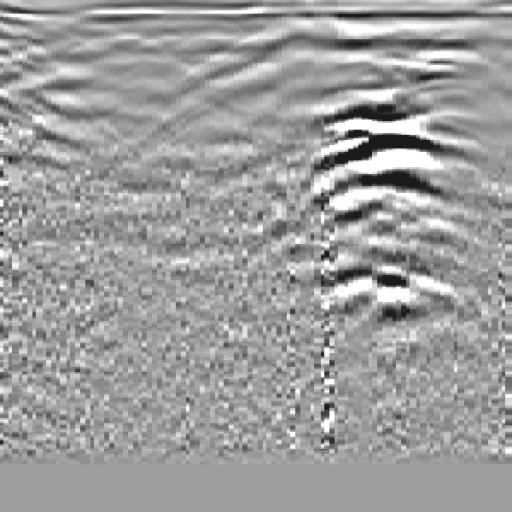metalic: (258, 33, 512, 345)
